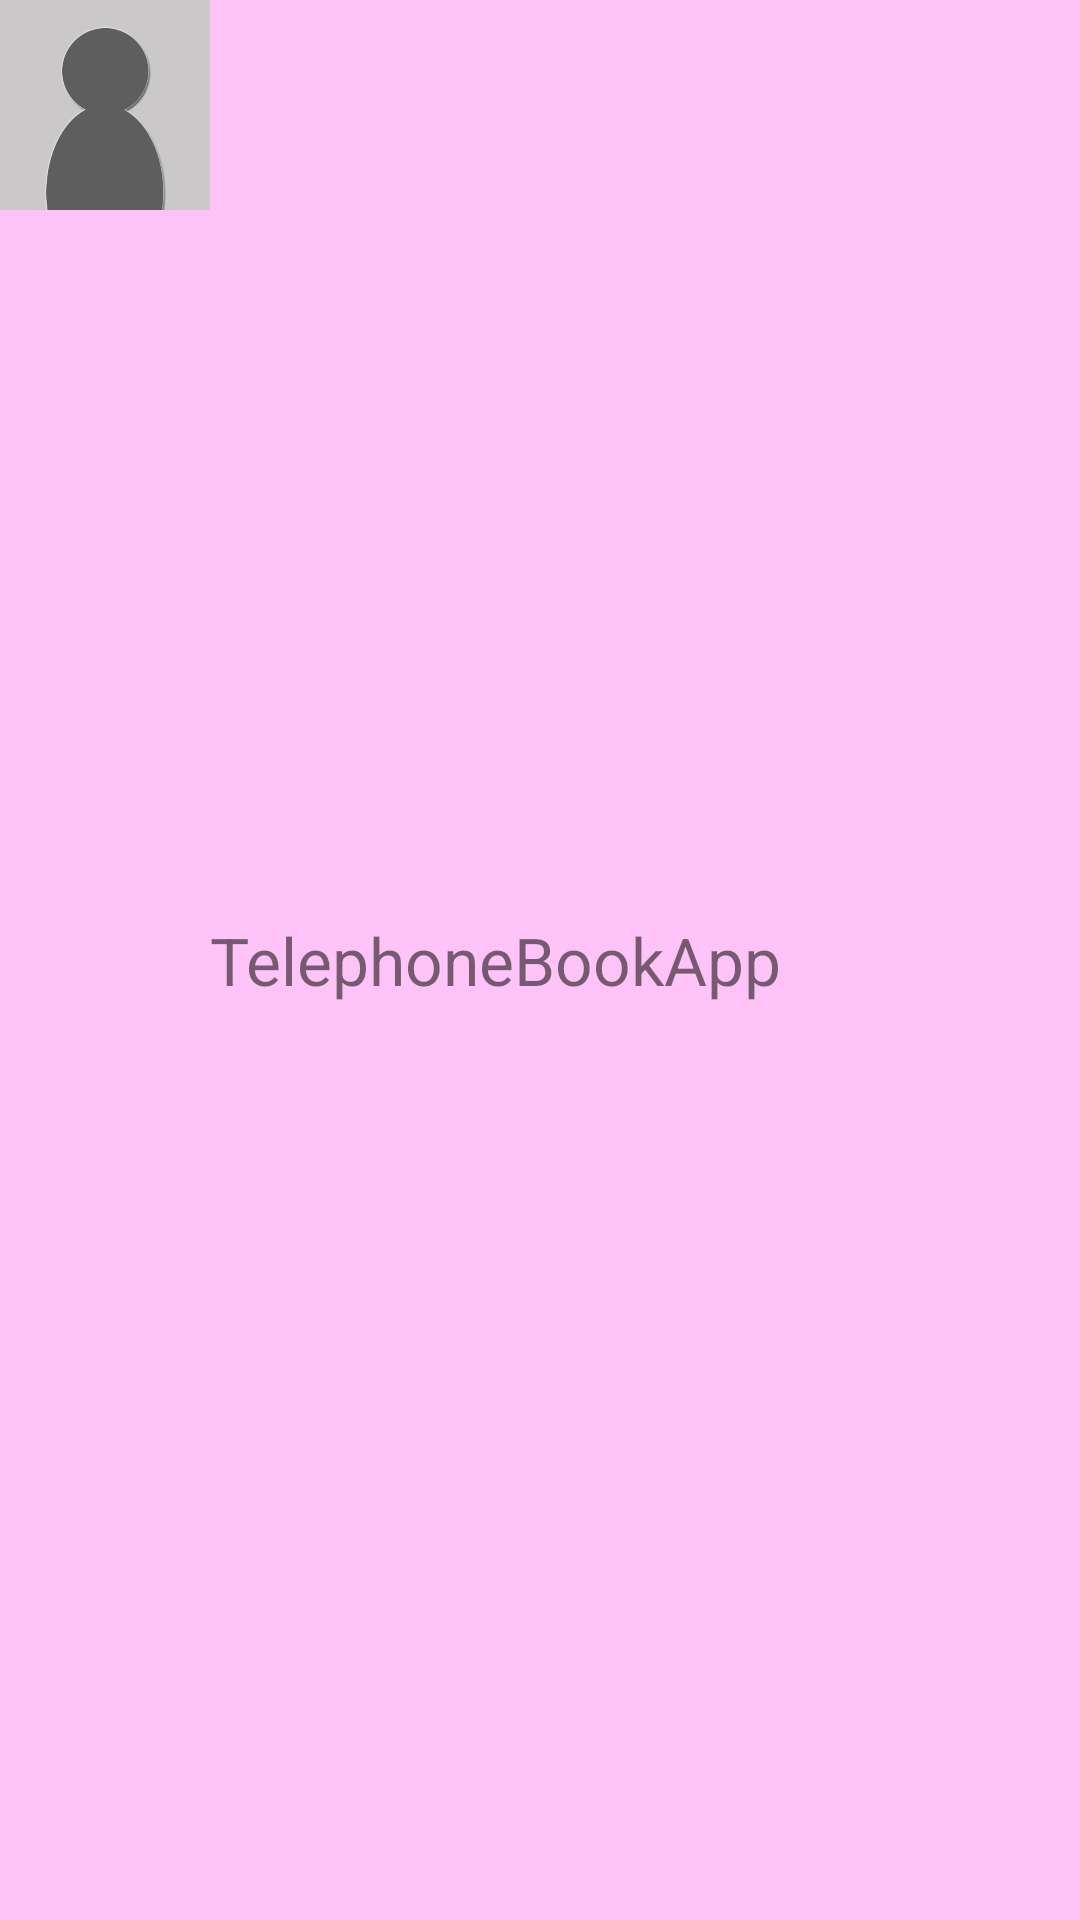

Where to tap for icons on this 1080*1920 app screen, as point (x, y):
anonim: point (105, 105)
